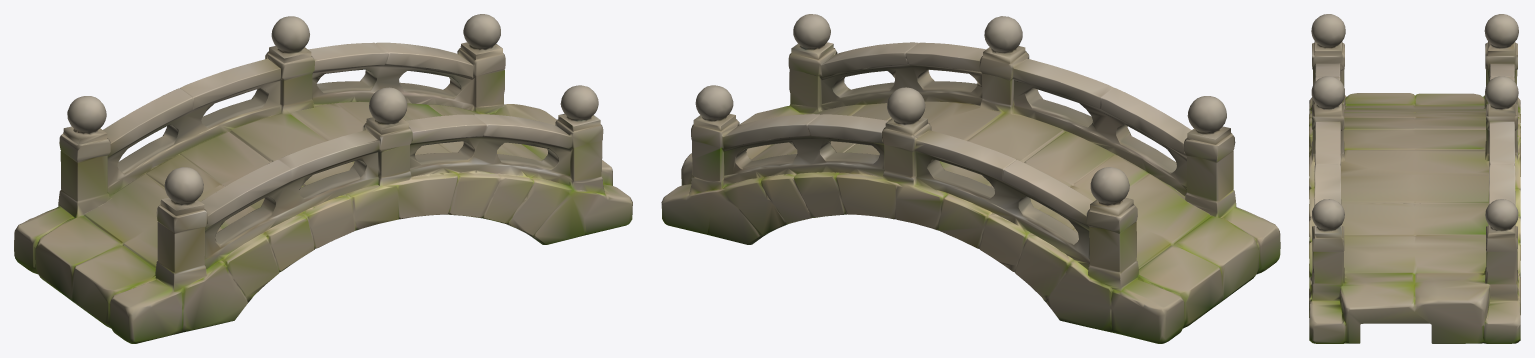
Rendered from stone-bridge-high.glb.
3 renders of one model, left to right at view 1: azimuth 30°, elevation 25°; view 2: azimuth 150°, elevation 25°; view 3: azimuth 270°, elevation 25°, orthographic. The views are drawn at different scales.
Visible parts, largest first — view 1: stone-bridge-high; view 2: stone-bridge-high; view 3: stone-bridge-high.
Boxes of the visible parts, left/top/right/bottom form: stone-bridge-high: left=14, top=14, right=632, bottom=343; stone-bridge-high: left=661, top=14, right=1280, bottom=343; stone-bridge-high: left=1309, top=14, right=1520, bottom=343.
Size of the model in its own units: 0.9999 by 0.3506 by 0.4084.
